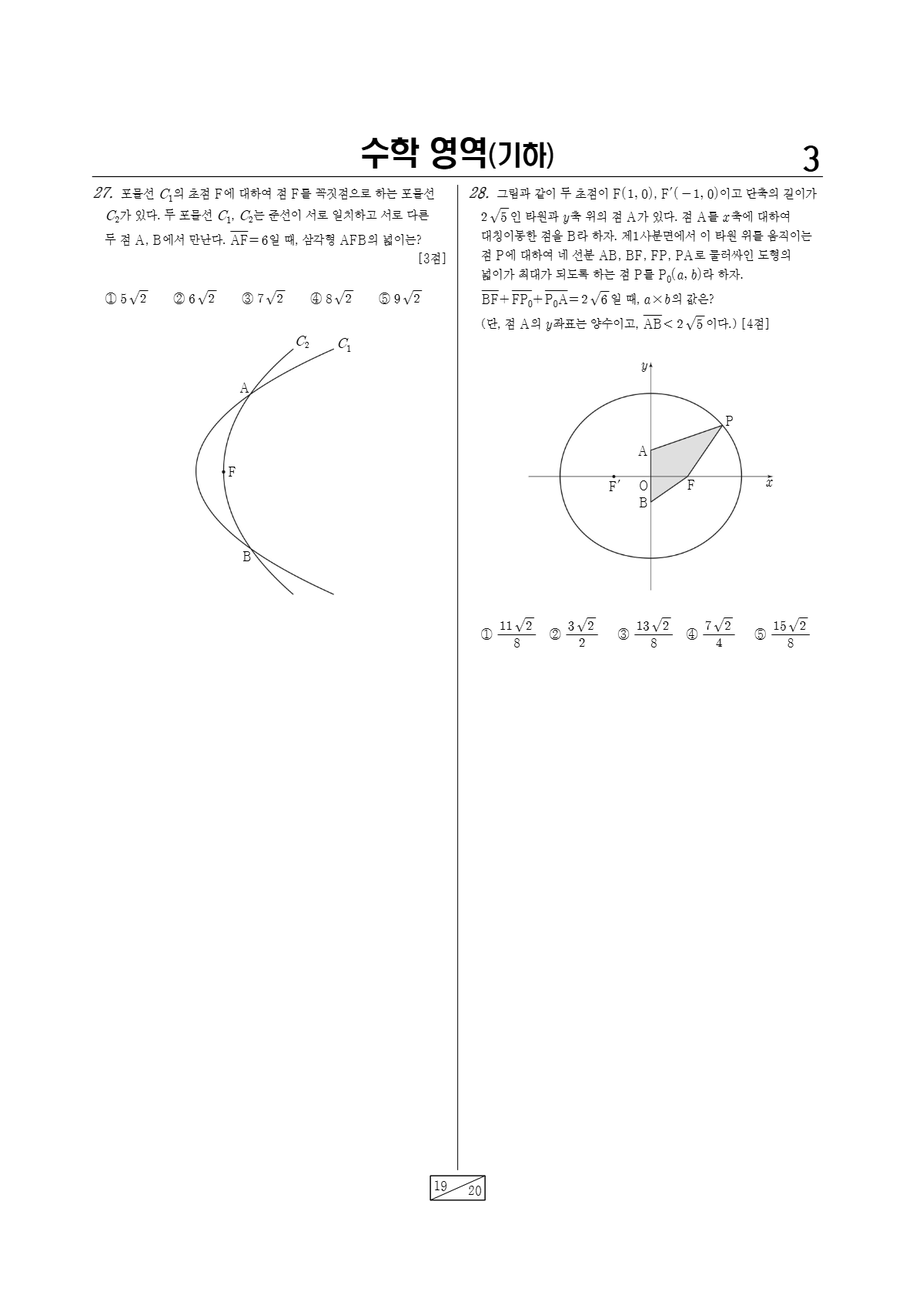opt_1: (103, 289, 118, 305), (480, 627, 492, 640)
opt_2: (172, 291, 184, 304), (549, 627, 561, 640)
opt_3: (617, 627, 629, 641), (241, 292, 253, 304)
opt_4: (309, 291, 323, 305), (686, 627, 699, 641)
opt_5: (754, 627, 766, 641), (378, 291, 390, 304)
